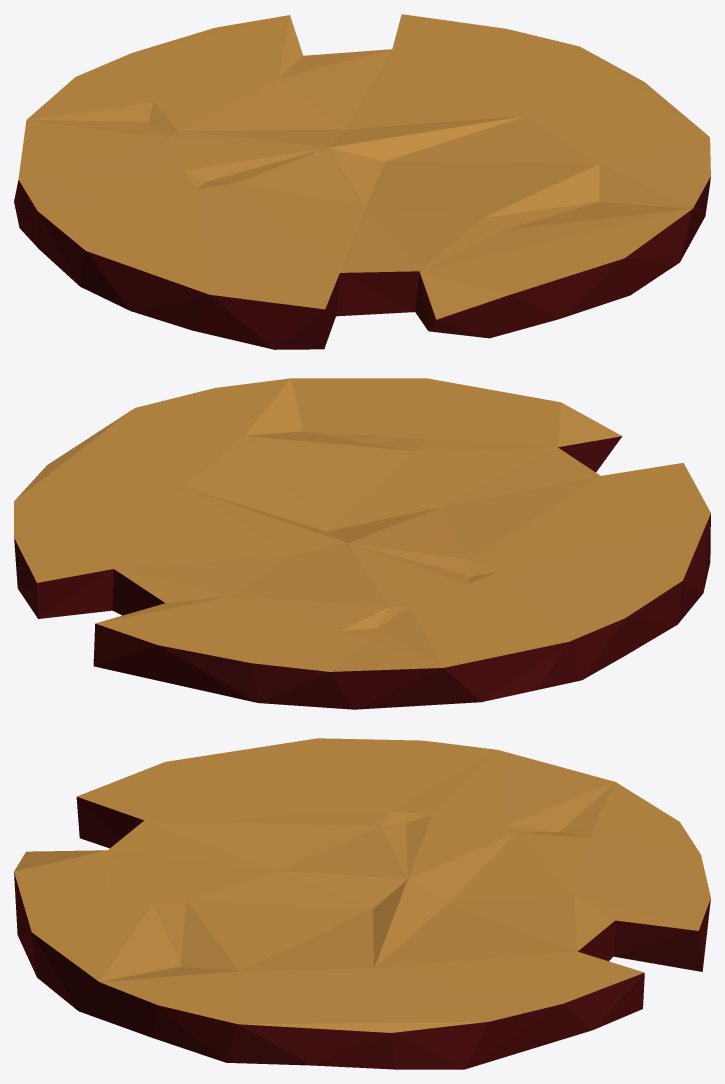
The model's file is level_Upper_Plat_modelled.fbx.
3 renders of one model, top to bottom at view 1: azimuth 30°, elevation 25°; view 2: azimuth 150°, elevation 25°; view 3: azimuth 270°, elevation 25°, orthographic.
Visible parts, largest first — view 1: level_Upper_Plat_modelled; view 2: level_Upper_Plat_modelled; view 3: level_Upper_Plat_modelled.
Part boxes in pixels (x1,y1,x2,y2): level_Upper_Plat_modelled: (14,14,710,349); level_Upper_Plat_modelled: (14,378,710,709); level_Upper_Plat_modelled: (14,738,710,1069).
Size of the model in its own units: 461 by 33.39 by 465.
